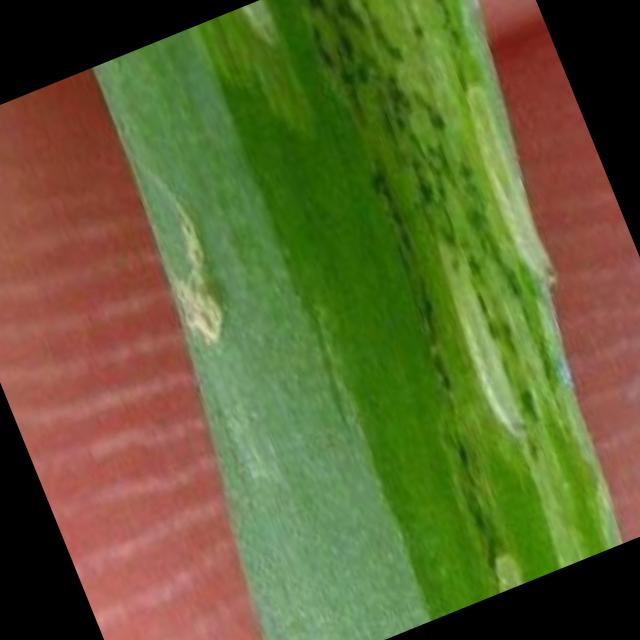whorl-maggot: (438, 59, 570, 306), (420, 219, 546, 452)
